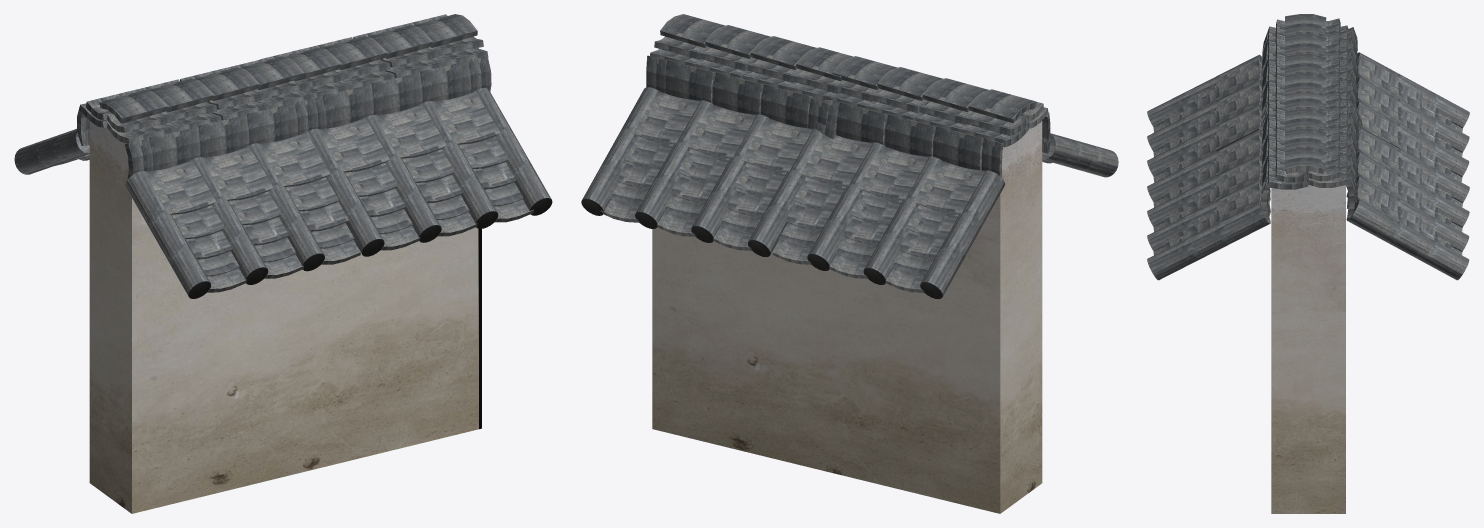
Rendered from jwall.fbx.
3 views of the same model, side by side, from view 1: azimuth 30°, elevation 25°; view 2: azimuth 150°, elevation 25°; view 3: azimuth 270°, elevation 25° (orthographic). The views are drawn at different scales.
Visible parts, largest first — view 1: Box001, pCylinder1, pCylinder014, pCylinder015, pCube077, pCube016, pCube6, pCylinder002, pCube092, pCube011, pCylinder011, pCylinder003 (+45 smaller); view 2: Box001, pCylinder007, pCylinder012, pCylinder016, pCube030, pCube064, pCube111, pCube039, pCylinder013, pCylinder008, pCylinder009, pCylinder006 (+49 smaller); view 3: Box001, pCylinder016, pCylinder015, pCylinder013, pCylinder006, pCylinder003, pCylinder002, pCylinder009, pCylinder011, pCylinder1, pCylinder007, pCylinder008 (+28 smaller).
Part boxes in pixels (box(x1,y1,x2,y2)): Box001: box(89, 121, 481, 513); pCylinder1: box(125, 171, 210, 298); pCylinder014: box(306, 128, 384, 256); pCylinder015: box(474, 87, 552, 215); pCube077: box(318, 118, 389, 172); pCube016: box(259, 132, 330, 186); pCube6: box(145, 160, 216, 214); pCylinder002: box(190, 157, 268, 284); pCube092: box(376, 104, 447, 158); pCube011: box(202, 146, 273, 200); pCylinder011: box(420, 101, 498, 228); pCylinder003: box(247, 143, 324, 271); Box001: box(652, 121, 1042, 513); pCylinder007: box(920, 170, 1005, 299); pCylinder012: box(748, 128, 822, 256); pCylinder016: box(581, 87, 658, 215); pCube030: box(914, 159, 985, 214); pCube064: box(742, 117, 812, 172); pCube111: box(685, 103, 756, 158); pCube039: box(858, 145, 928, 200); pCylinder013: box(635, 100, 711, 228); pCylinder008: box(807, 142, 884, 270); pCylinder009: box(691, 114, 768, 242); pCylinder006: box(863, 156, 940, 284); Box001: box(1271, 185, 1345, 513); pCylinder016: box(1346, 199, 1469, 280); pCylinder015: box(1147, 202, 1270, 280); pCylinder013: box(1346, 176, 1469, 251); pCylinder006: box(1357, 77, 1469, 152); pCylinder003: box(1147, 104, 1261, 176); pCylinder002: box(1147, 79, 1261, 152); pCylinder009: box(1357, 152, 1469, 227); pCylinder011: box(1147, 179, 1270, 251); pCylinder1: box(1147, 54, 1262, 127); pCylinder007: box(1357, 52, 1469, 128); pCylinder008: box(1356, 101, 1469, 176).
Bounding box in the file's own units: 227 × 235 × 196.
Materials: 3 (3 with a texture image).
